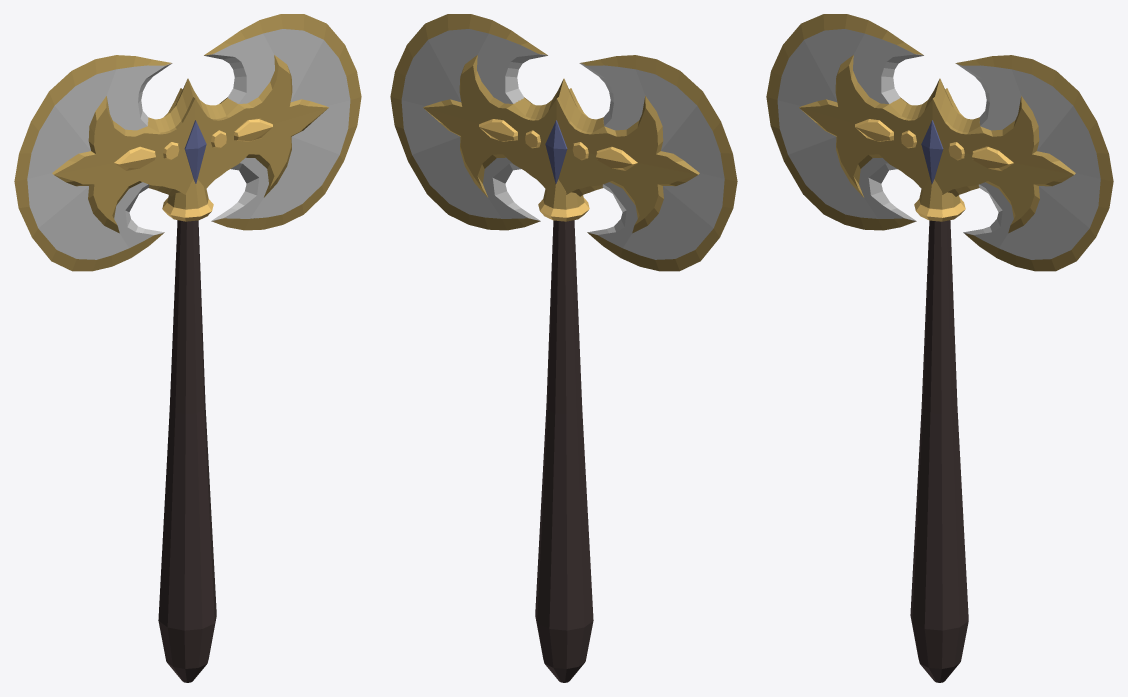
File: Axe.fbx
3 views of the same model, side by side, from view 1: azimuth 30°, elevation 25°; view 2: azimuth 150°, elevation 25°; view 3: azimuth 330°, elevation 25° (orthographic).
Visible parts, largest first — view 1: kepala kapak, Gagang kapak; view 2: kepala kapak, Gagang kapak; view 3: kepala kapak, Gagang kapak.
Part boxes in pixels (bbox=[...]): kepala kapak: bbox=[14, 14, 361, 271]; Gagang kapak: bbox=[158, 179, 216, 682]; kepala kapak: bbox=[390, 14, 737, 271]; Gagang kapak: bbox=[535, 179, 593, 682]; kepala kapak: bbox=[766, 14, 1113, 271]; Gagang kapak: bbox=[910, 179, 968, 682].
Size of the model in its own units: 90.75 by 161 by 13.51.
2 materials, 2 textured.
